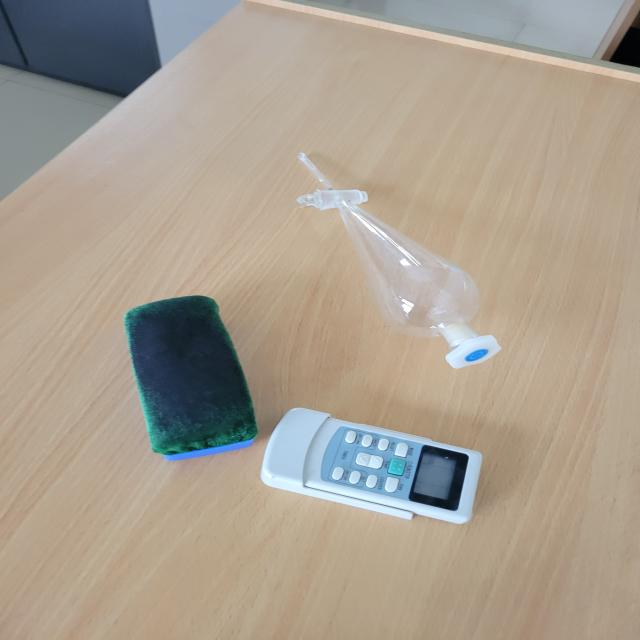Separating_Funnel: (275, 129, 543, 387)
